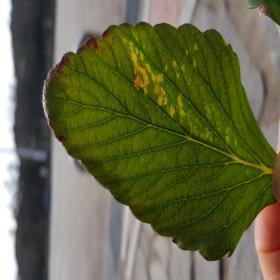Angular Leafspot: (114, 29, 247, 157)
